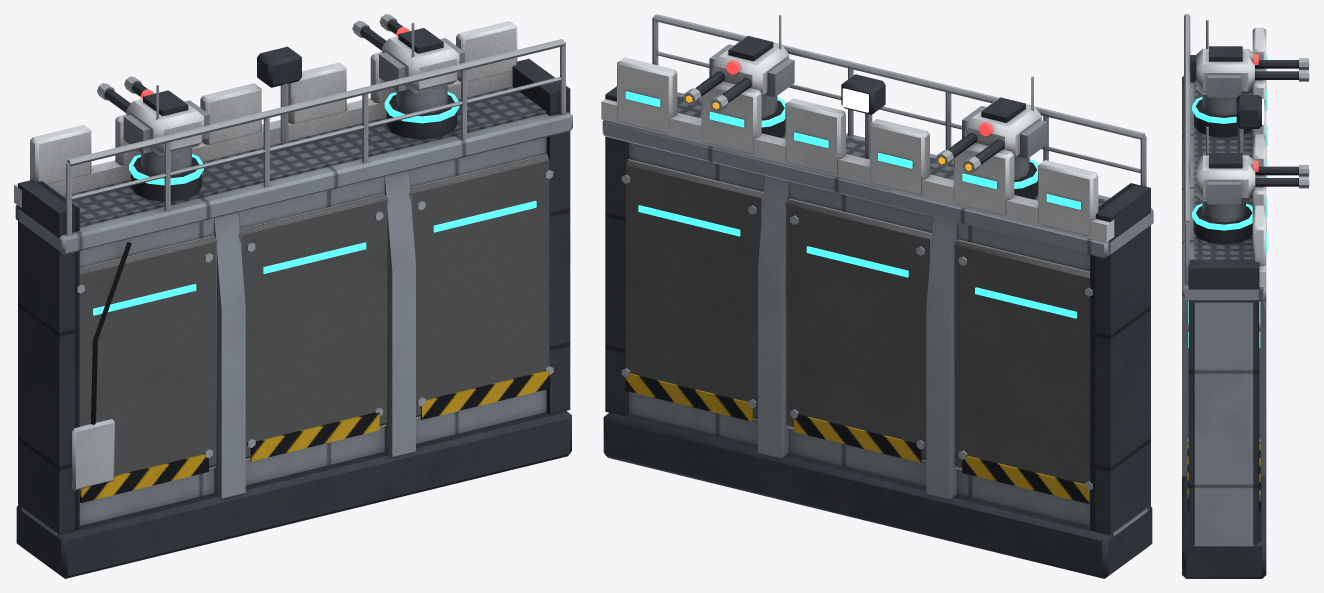
The model's file is muro_perimetral.fbx.
3 views of the same model, side by side, from view 1: azimuth 30°, elevation 25°; view 2: azimuth 150°, elevation 25°; view 3: azimuth 270°, elevation 25° (orthographic). The views are drawn at different scales.
Parts seen in each view (by area): view 1: muro_perimetral, muro_perimetral_torreta_1, muro_perimetral_torreta_2, muro_perimetral_neon; view 2: muro_perimetral, muro_perimetral_torreta_1, muro_perimetral_torreta_2, muro_perimetral_neon; view 3: muro_perimetral, muro_perimetral_torreta_1, muro_perimetral_torreta_2, muro_perimetral_neon.
Part boxes in pixels (x1,y1,x2,y2): muro_perimetral: (14, 21, 572, 578); muro_perimetral_torreta_1: (352, 14, 464, 112); muro_perimetral_torreta_2: (97, 76, 209, 175); muro_perimetral_neon: (93, 92, 536, 315); muro_perimetral: (601, 14, 1153, 578); muro_perimetral_torreta_1: (683, 15, 794, 118); muro_perimetral_torreta_2: (935, 76, 1046, 179); muro_perimetral_neon: (625, 91, 1080, 318); muro_perimetral: (1182, 14, 1266, 578); muro_perimetral_torreta_1: (1196, 126, 1308, 222); muro_perimetral_torreta_2: (1196, 20, 1308, 115); muro_perimetral_neon: (1188, 55, 1267, 347).
Size of the model in its own units: 6 by 5.15 by 1.52.
2 materials, 2 textured.
